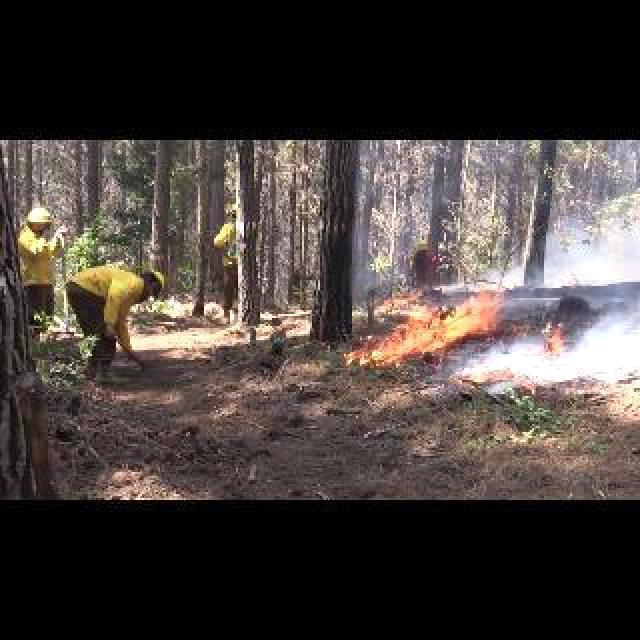Fire: (383, 284, 501, 362), (348, 335, 384, 368)
Smoke: (472, 296, 640, 404), (504, 194, 640, 288)
